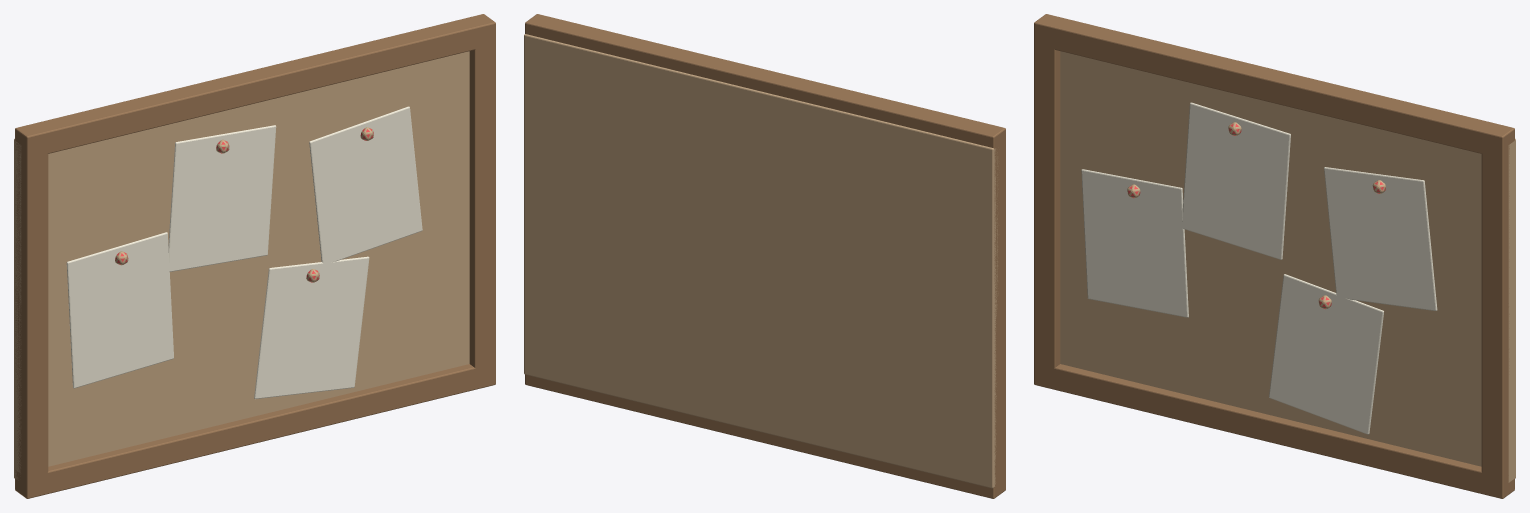
Rendered from TableroCorcho.glb.
The picture shows the model from 3 angles, left to right: view 1: azimuth 30°, elevation 25°; view 2: azimuth 150°, elevation 25°; view 3: azimuth 330°, elevation 25°; orthographic projection.
Parts seen in each view (by area): view 1: TableroCorcho; view 2: TableroCorcho; view 3: TableroCorcho.
Boxes of the visible parts, x1=… form: TableroCorcho: x1=14, y1=14, x2=495, y2=498; TableroCorcho: x1=524, y1=14, x2=1005, y2=498; TableroCorcho: x1=1034, y1=14, x2=1515, y2=498.
Size of the model in its own units: 1.3 by 0.96 by 0.0664.
